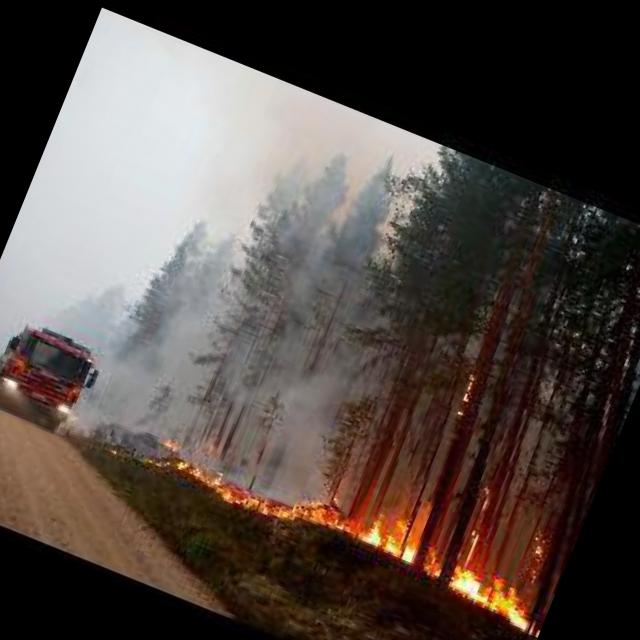fire: (119, 395, 567, 640), (517, 528, 552, 576), (473, 482, 501, 527), (460, 361, 482, 402)
smoke: (169, 322, 376, 508)
